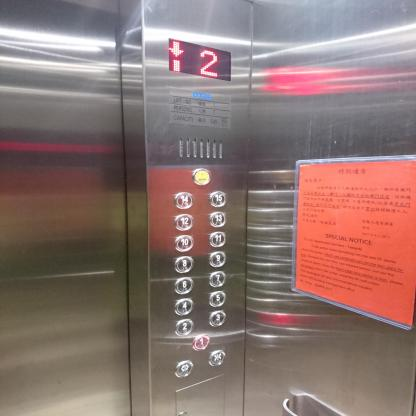1: (192, 334, 210, 350)
10: (174, 235, 194, 252)
11: (210, 232, 226, 248)
12: (174, 214, 194, 230)
13: (209, 211, 227, 228)
14: (174, 192, 194, 209)
15: (209, 191, 227, 207)
2: (174, 319, 193, 336)
3: (208, 310, 226, 326)
4: (174, 298, 194, 316)
5: (209, 291, 226, 307)
6: (174, 277, 194, 294)
7: (209, 271, 226, 287)
8: (174, 256, 193, 273)
9: (209, 251, 227, 267)
alarm: (192, 168, 211, 185)
close: (208, 348, 226, 366)
led: (167, 37, 232, 82)
open: (174, 360, 193, 378)
